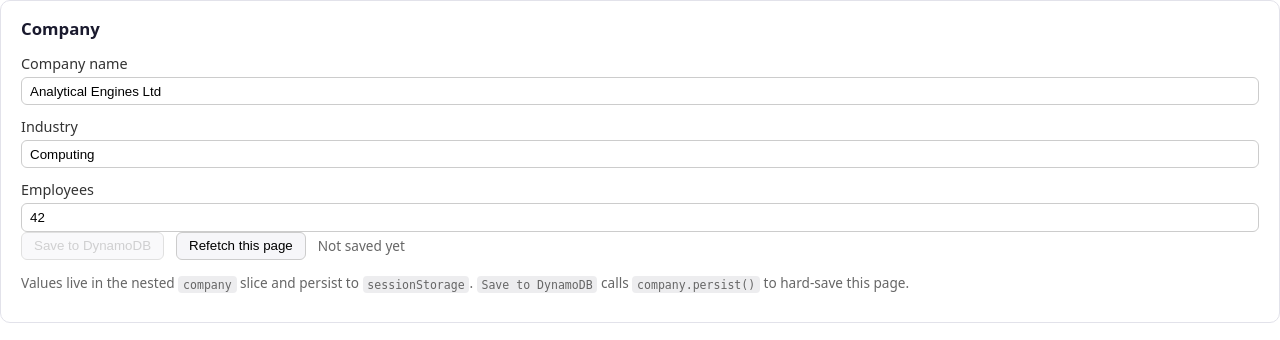
it: <CompanyPage /> › editing a field stages it, shows the badge, and enables Save
Replace the text in the field labelled "Company name" with "Babbage & Co": (640,91) [21,77,1259,105]
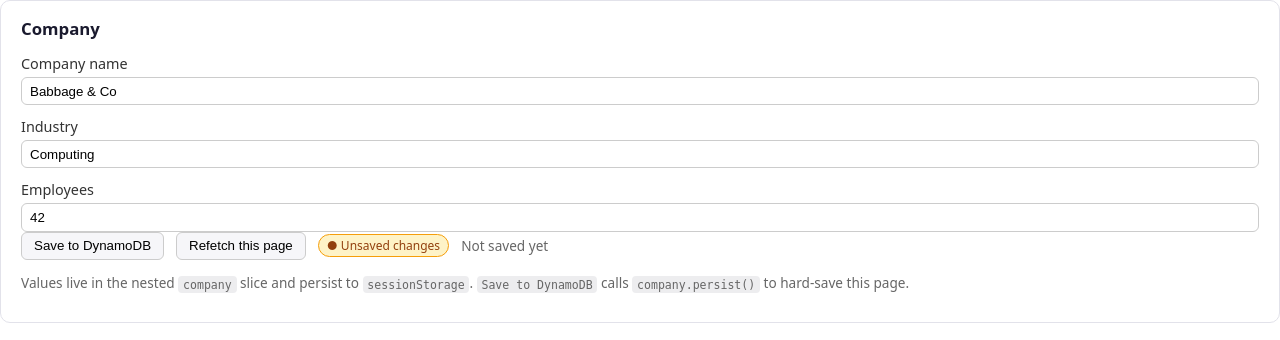
Result: the text "● Unsaved changes" is shown at [318,234,449,258]
Result: the button "Save to DynamoDB" is enabled at [21,232,164,260]
